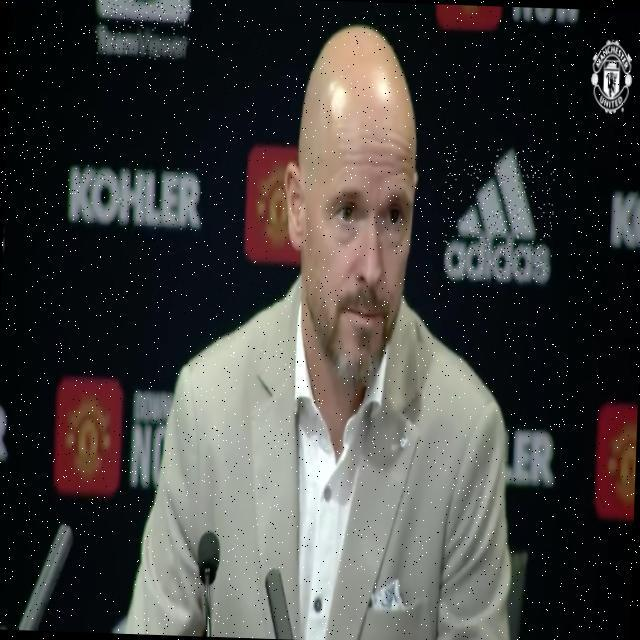Adidas: (441, 147, 555, 284)
Kohler: (66, 164, 202, 230)
TeamViewer: (94, 0, 191, 61)
